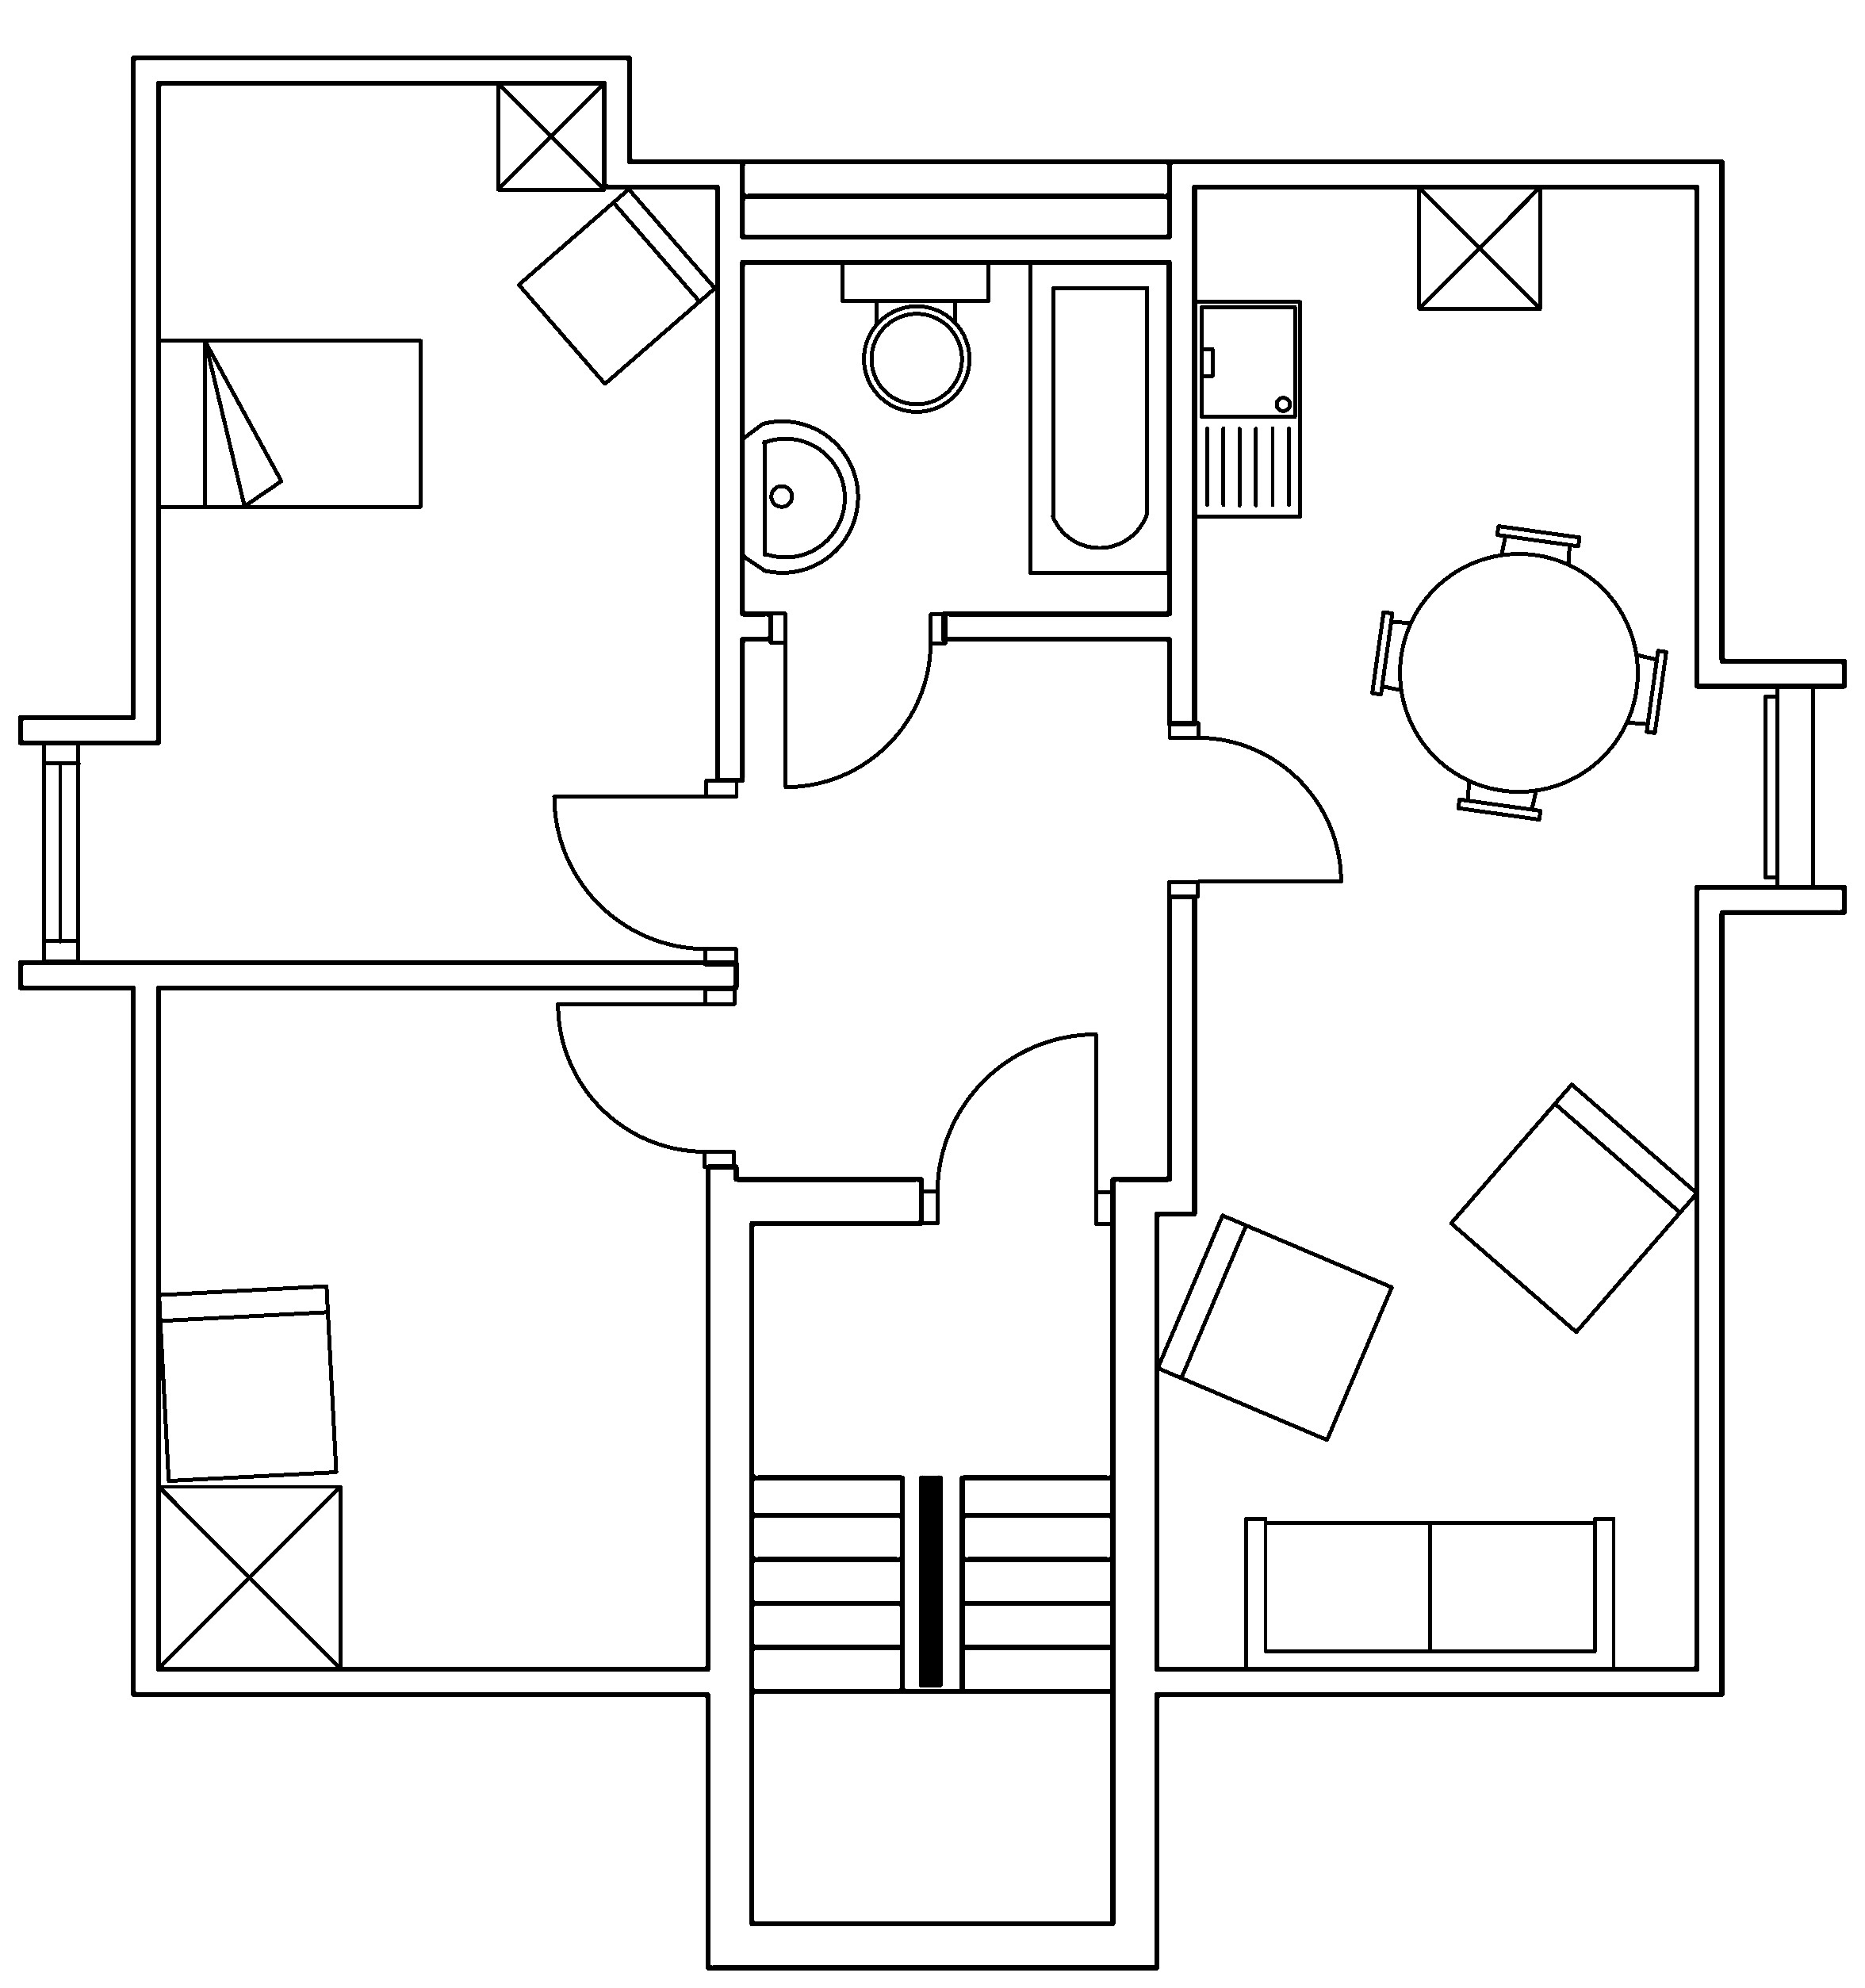bed: (154, 337, 424, 510)
coffee_table: (154, 1481, 342, 1671), (1416, 182, 1542, 310), (494, 79, 606, 191)
large_sink: (840, 258, 990, 412)
large_sofa: (1241, 1515, 1616, 1672)
round_table: (1369, 522, 1669, 822)
sink: (1192, 298, 1302, 519)
small_sink: (740, 419, 859, 573)
small_sofa: (1448, 1080, 1698, 1334), (1153, 1211, 1393, 1443), (515, 186, 717, 386), (156, 1282, 338, 1483)
tub: (1027, 258, 1171, 575)
